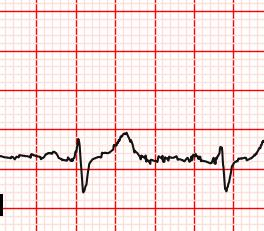Poor R Progression: (208, 144, 229, 167), (73, 136, 84, 164)
ST Depression: (210, 156, 241, 194), (70, 157, 97, 197)
